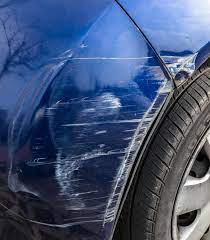scratch: (47, 99, 121, 217), (155, 46, 200, 87)
